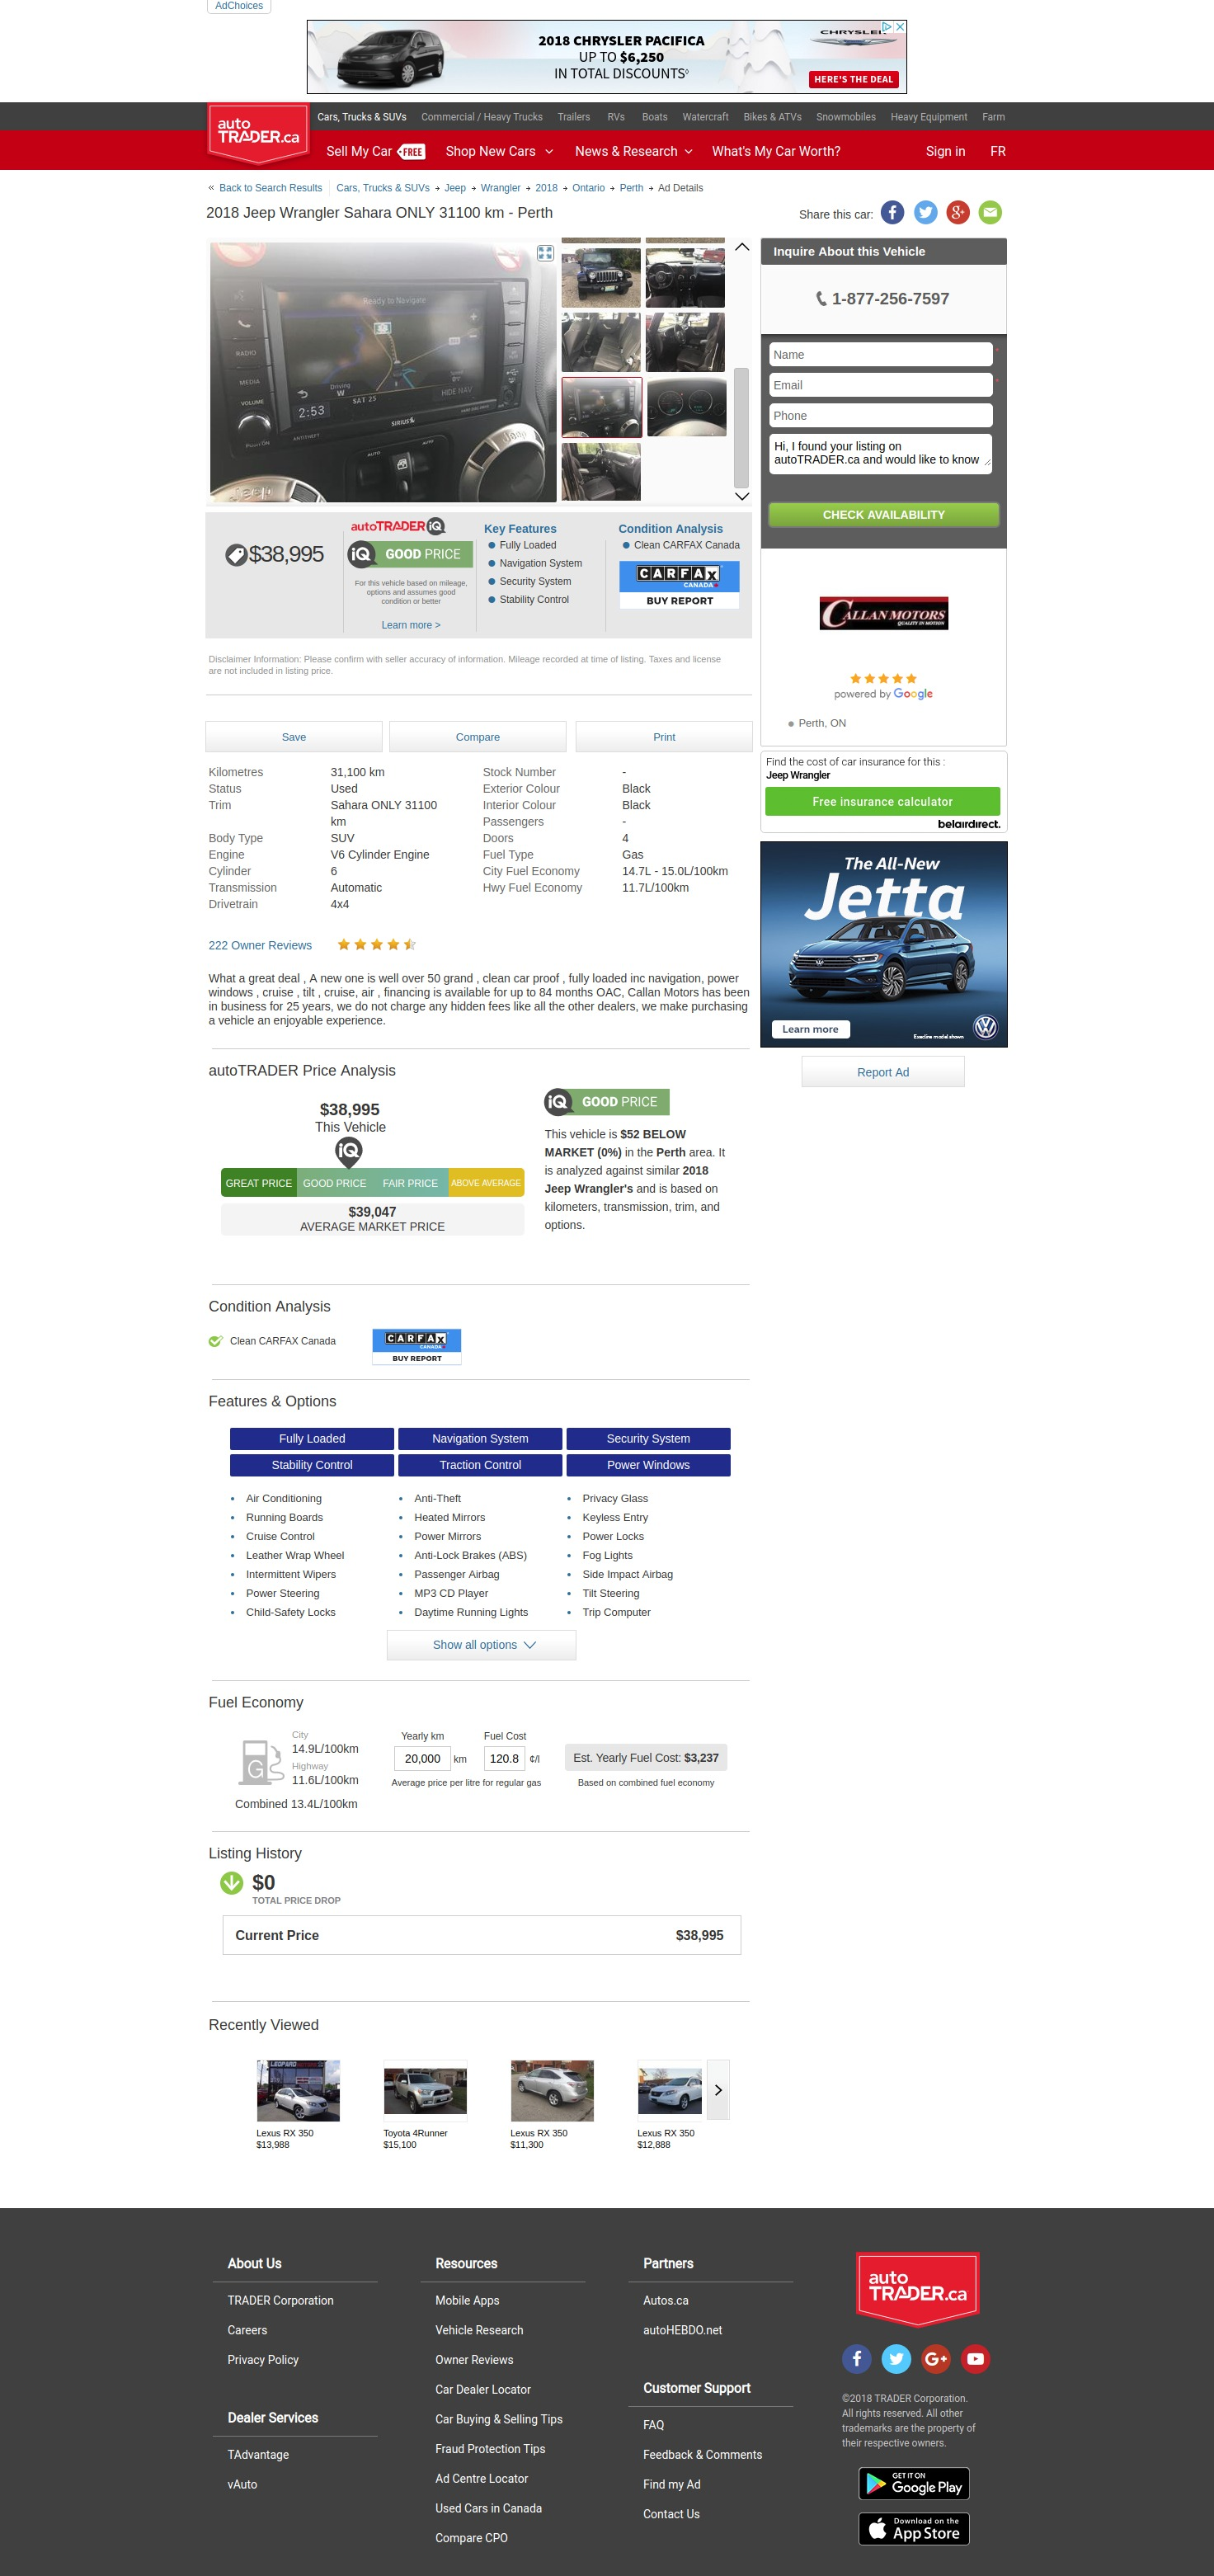car: (734, 491, 752, 503)
